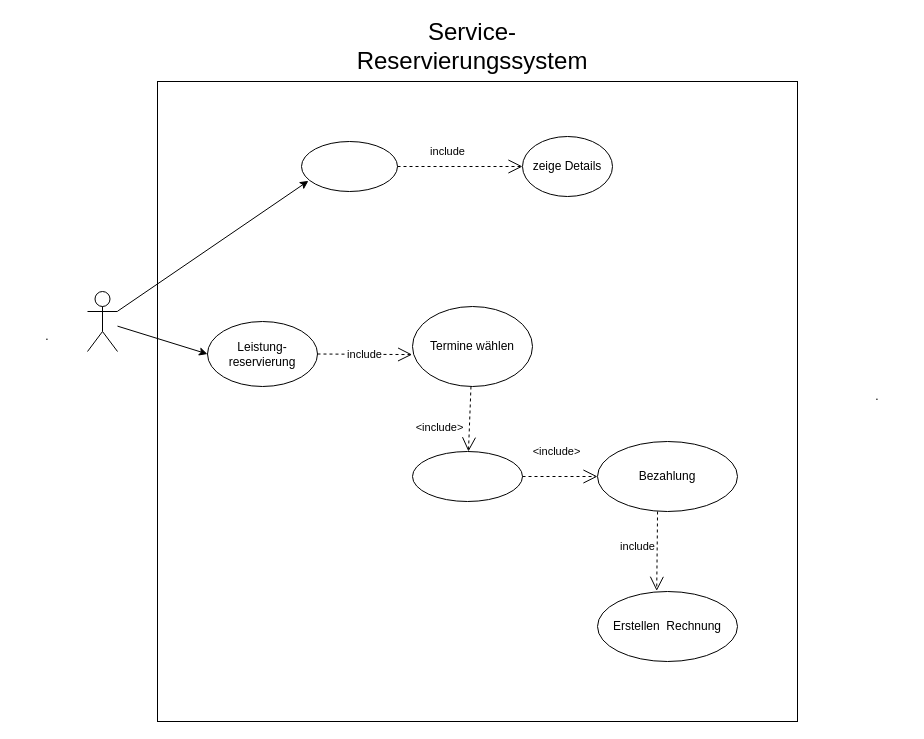
The diagram is 924 pixels wide and 739 high, and some of its shapes have lost their labels. Here are the shapes that lost their labels. From the top down, the box of each, then its label:
(300, 140, 398, 192): Leistung anzeigen
(86, 290, 118, 352): Patient
(412, 450, 522, 502): Rechnung je nach Versicherung
